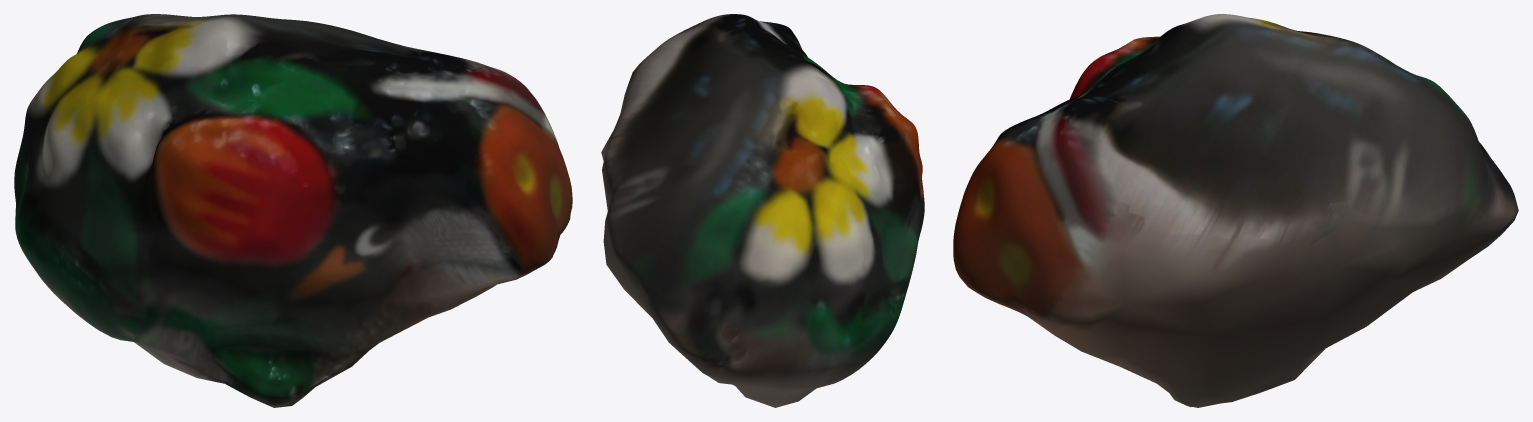
3 renders of one model, left to right at view 1: azimuth 30°, elevation 25°; view 2: azimuth 150°, elevation 25°; view 3: azimuth 270°, elevation 25°, orthographic. The views are drawn at different scales.
Bounding box in the file's own units: 0.2305 × 0.2039 × 0.2859.
Materials: 1 (1 with a texture image).
